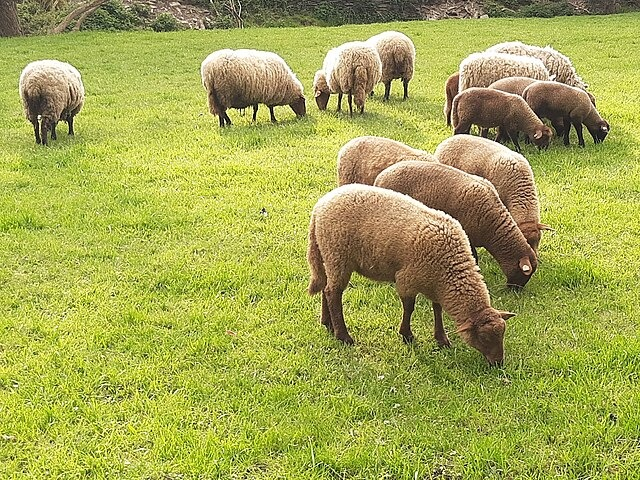grazing: (306, 182, 509, 371), (376, 162, 538, 292), (198, 48, 308, 125), (451, 85, 558, 152), (523, 81, 615, 144), (310, 42, 382, 114)
